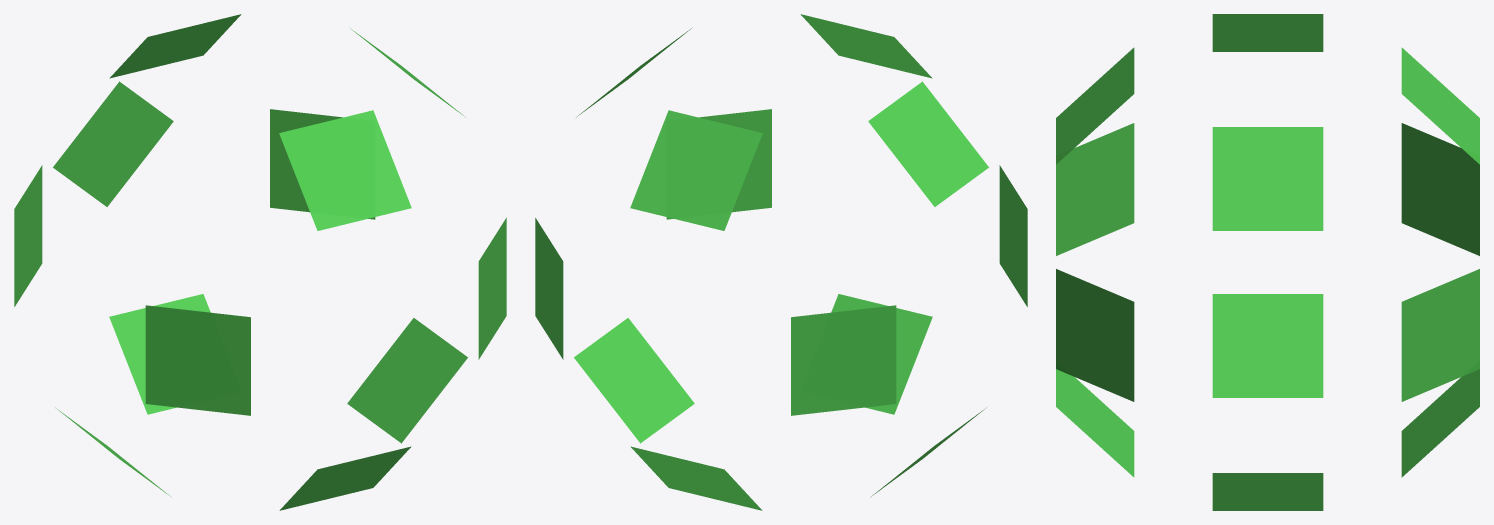
File: TruncatedCuboctahedronA2.obj
The picture shows the model from 3 angles, left to right: view 1: azimuth 30°, elevation 25°; view 2: azimuth 150°, elevation 25°; view 3: azimuth 270°, elevation 25°; orthographic projection.
Size of the model in its own units: 3.83 by 3.83 by 3.83.
